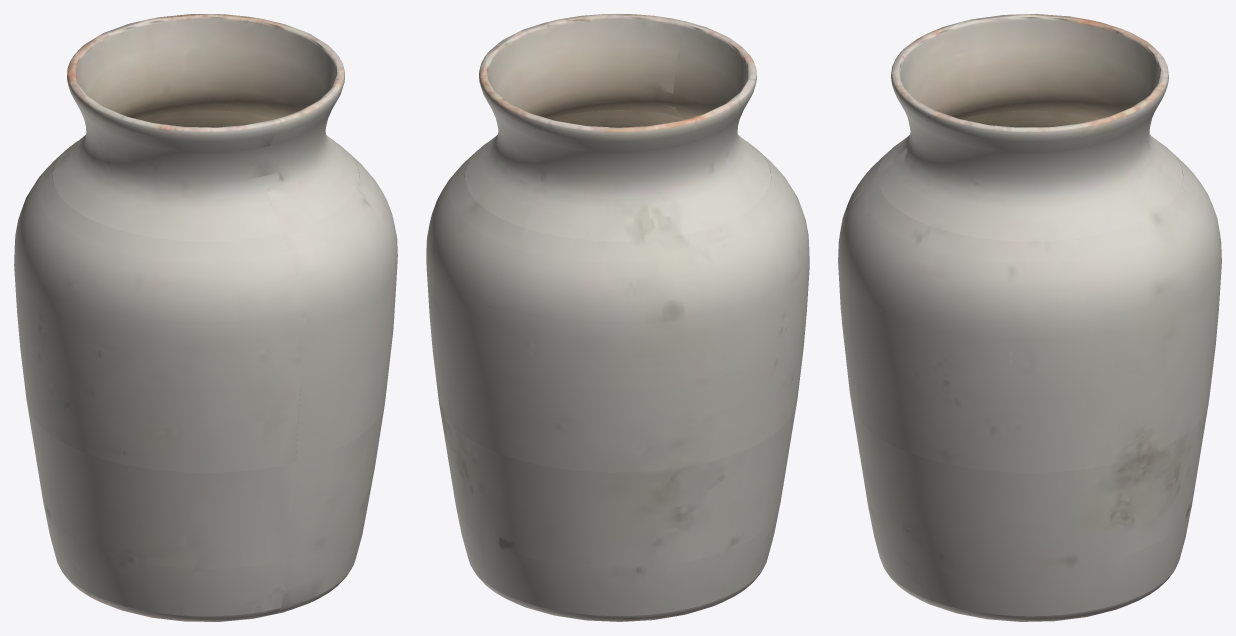
The model's file is ceramic_vase_02.glb.
3 views of the same model, side by side, from view 1: azimuth 30°, elevation 25°; view 2: azimuth 150°, elevation 25°; view 3: azimuth 270°, elevation 25° (orthographic).
Parts seen in each view (by area): view 1: ceramic_vase_02; view 2: ceramic_vase_02; view 3: ceramic_vase_02.
Part boxes in pixels (bbox=[...]): ceramic_vase_02: bbox=[14, 14, 397, 621]; ceramic_vase_02: bbox=[426, 14, 809, 621]; ceramic_vase_02: bbox=[838, 14, 1221, 621].
Bounding box in the file's own units: 0.2184 × 0.3092 × 0.2185.
1 material, 1 textured.
